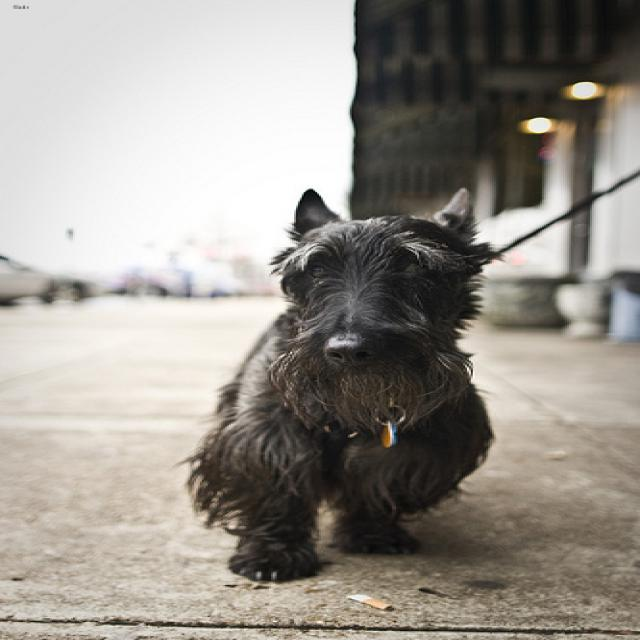dog-scottish_terrier: (173, 178, 513, 590)
